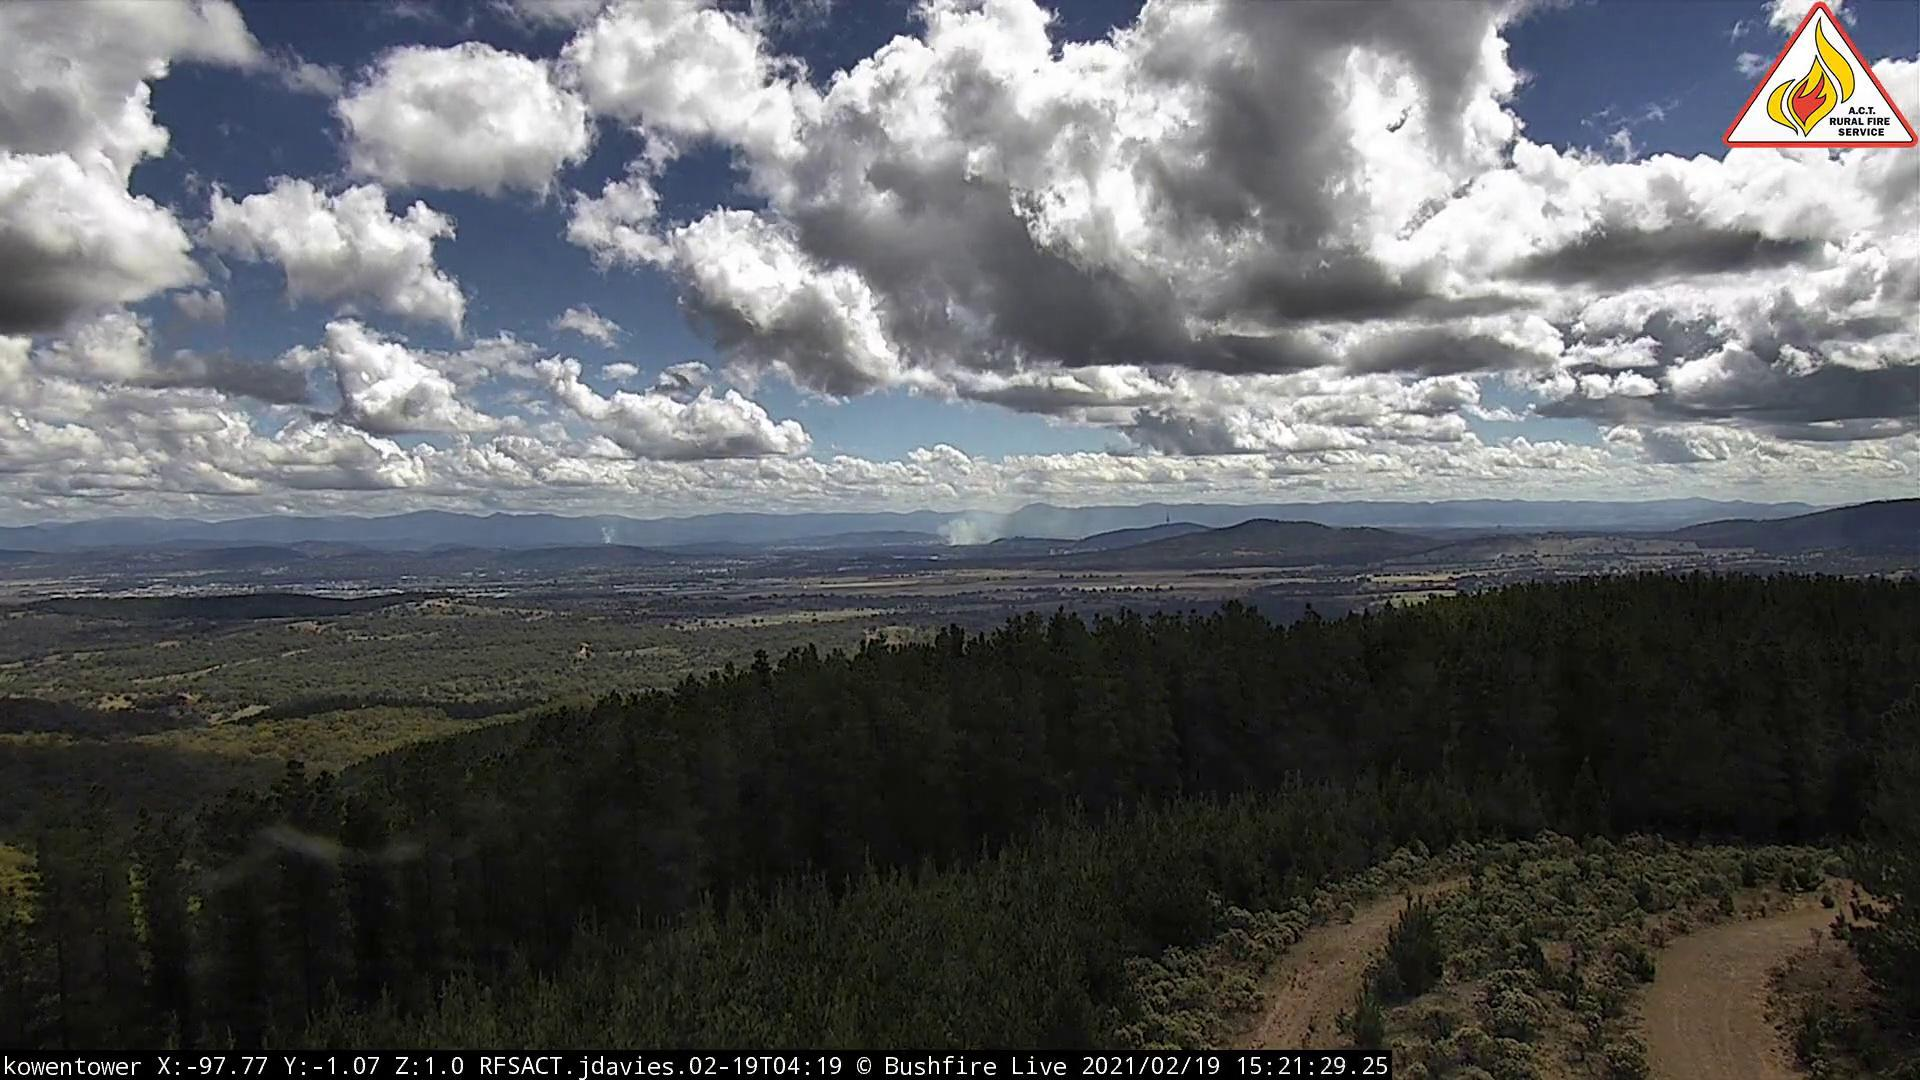Smoke: (935, 493, 1088, 549), (597, 518, 622, 550)
